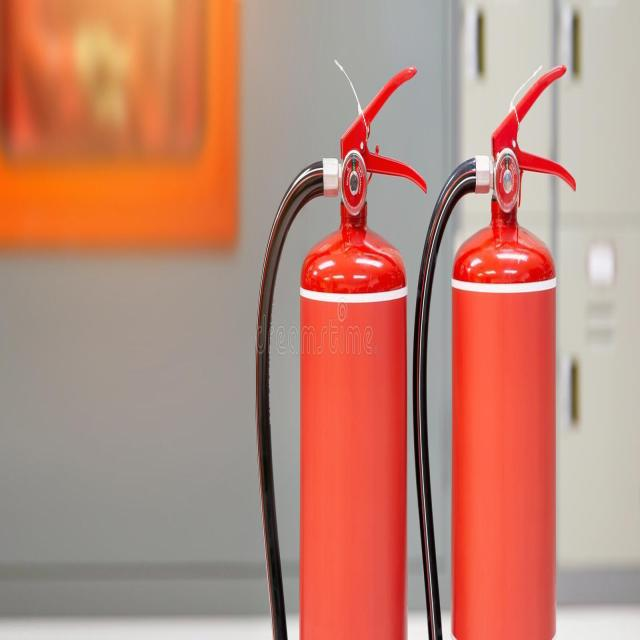fire_extinguisher: (252, 61, 429, 639), (408, 59, 582, 639)
